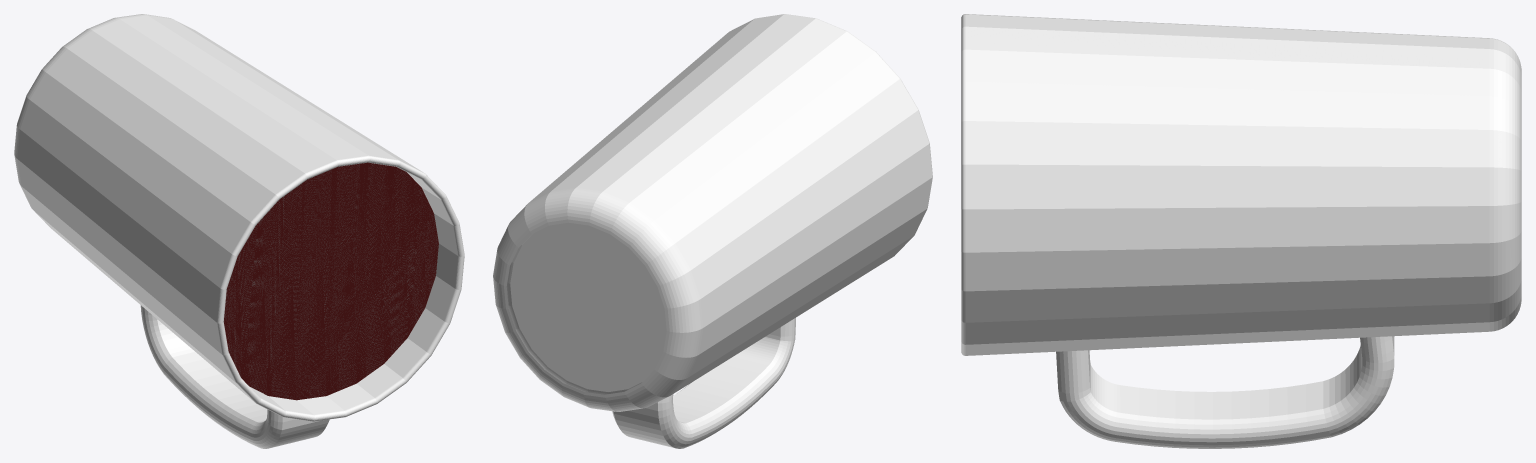
3 views of the same model, side by side, from view 1: azimuth 30°, elevation 25°; view 2: azimuth 150°, elevation 25°; view 3: azimuth 270°, elevation 25° (orthographic). The views are drawn at different scales.
Visible parts, largest first — view 1: a coffee mug; view 2: a coffee mug; view 3: a coffee mug.
Part boxes in pixels (bbox=[...]): a coffee mug: bbox=[14, 14, 464, 448]; a coffee mug: bbox=[493, 14, 932, 448]; a coffee mug: bbox=[961, 14, 1521, 448].
Size of the model in its own units: 3.17 by 4.1 by 5.16.
